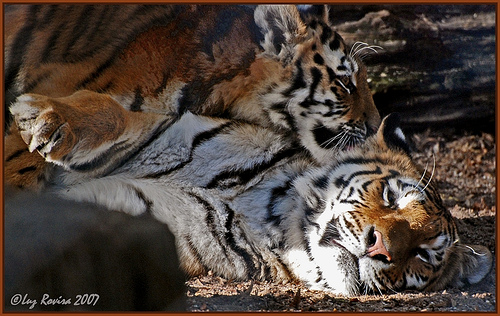Tigre: (25, 94, 463, 300), (188, 10, 397, 170)
